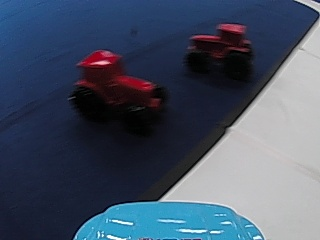tractor: (69, 48, 167, 119), (186, 19, 256, 79)
